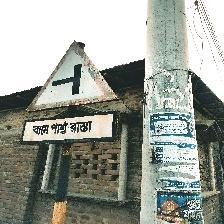Side-road-left: (23, 40, 122, 148)
